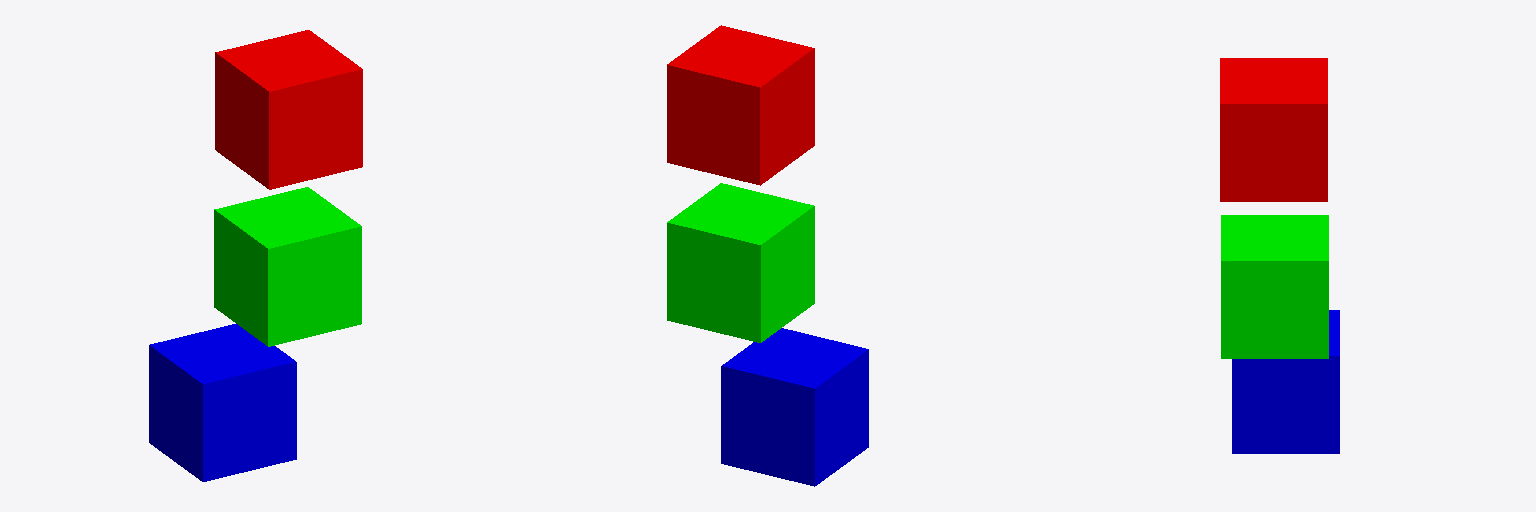
3 views of the same model, side by side, from view 1: azimuth 30°, elevation 25°; view 2: azimuth 150°, elevation 25°; view 3: azimuth 270°, elevation 25° (orthographic).
Visible parts, largest first — view 1: Cube3, Cube2, Cube1; view 2: Cube2, Cube3, Cube1; view 3: Cube3, Cube2, Cube1.
Boxes of the visible parts, x1,y1,x2,y2 form: Cube3: [215, 30, 362, 189]; Cube2: [214, 187, 361, 346]; Cube1: [149, 324, 296, 481]; Cube2: [667, 183, 814, 342]; Cube3: [667, 25, 814, 185]; Cube1: [721, 328, 868, 486]; Cube3: [1220, 58, 1327, 201]; Cube2: [1221, 215, 1328, 358]; Cube1: [1232, 310, 1339, 453].
Size of the model in its own units: 3.29 by 7.75 by 2.22.